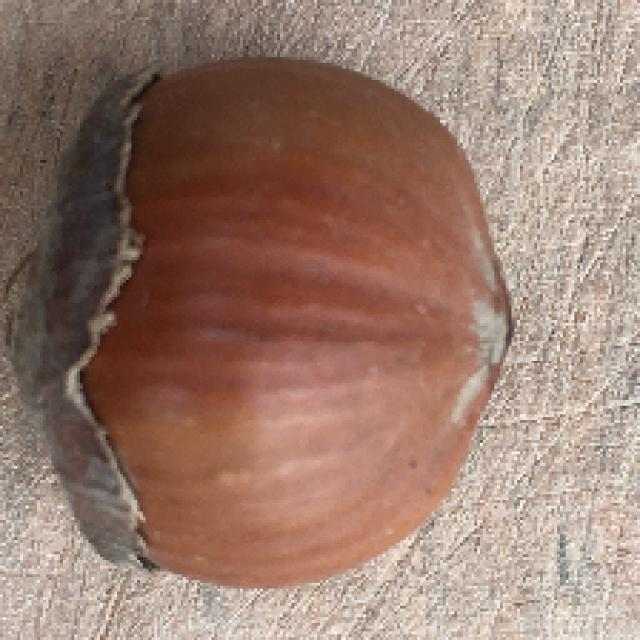damagedHazelnut: (7, 55, 521, 590)
